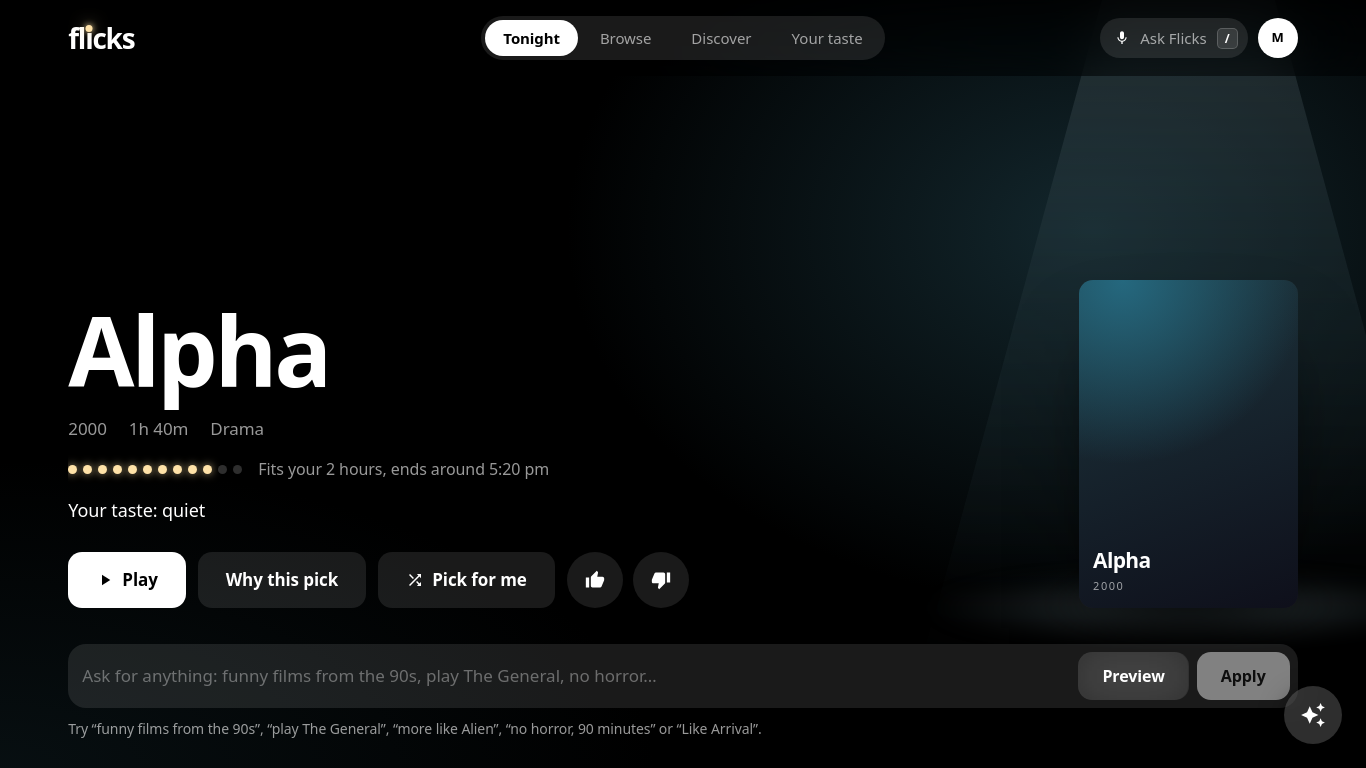
a single profile goes straight to the picks, and its menu exports and clears data
Click the button named "Profile: Me" at x=1278, y=38, box [1258, 18, 1298, 58]
(page scrolled)
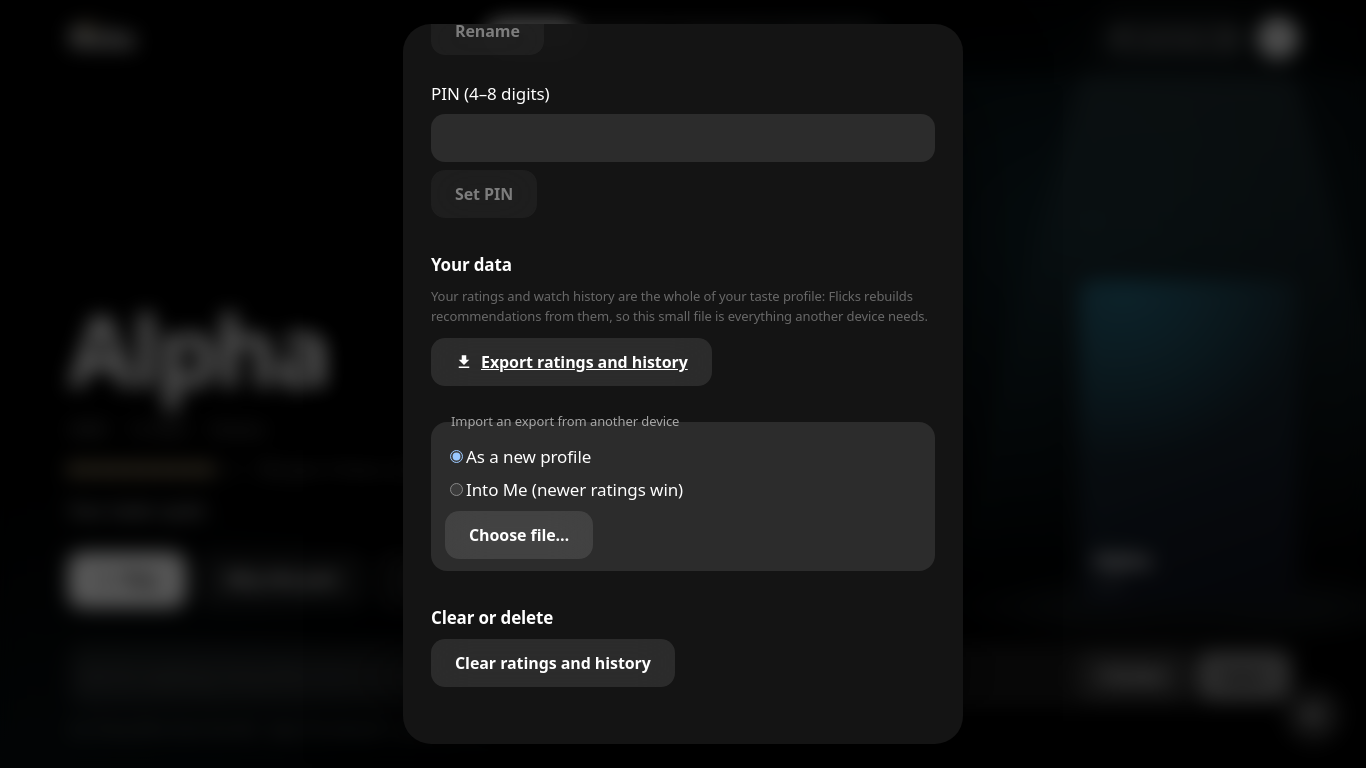
Click the button "Clear ratings and history" at x=553, y=663, box [431, 639, 675, 687]
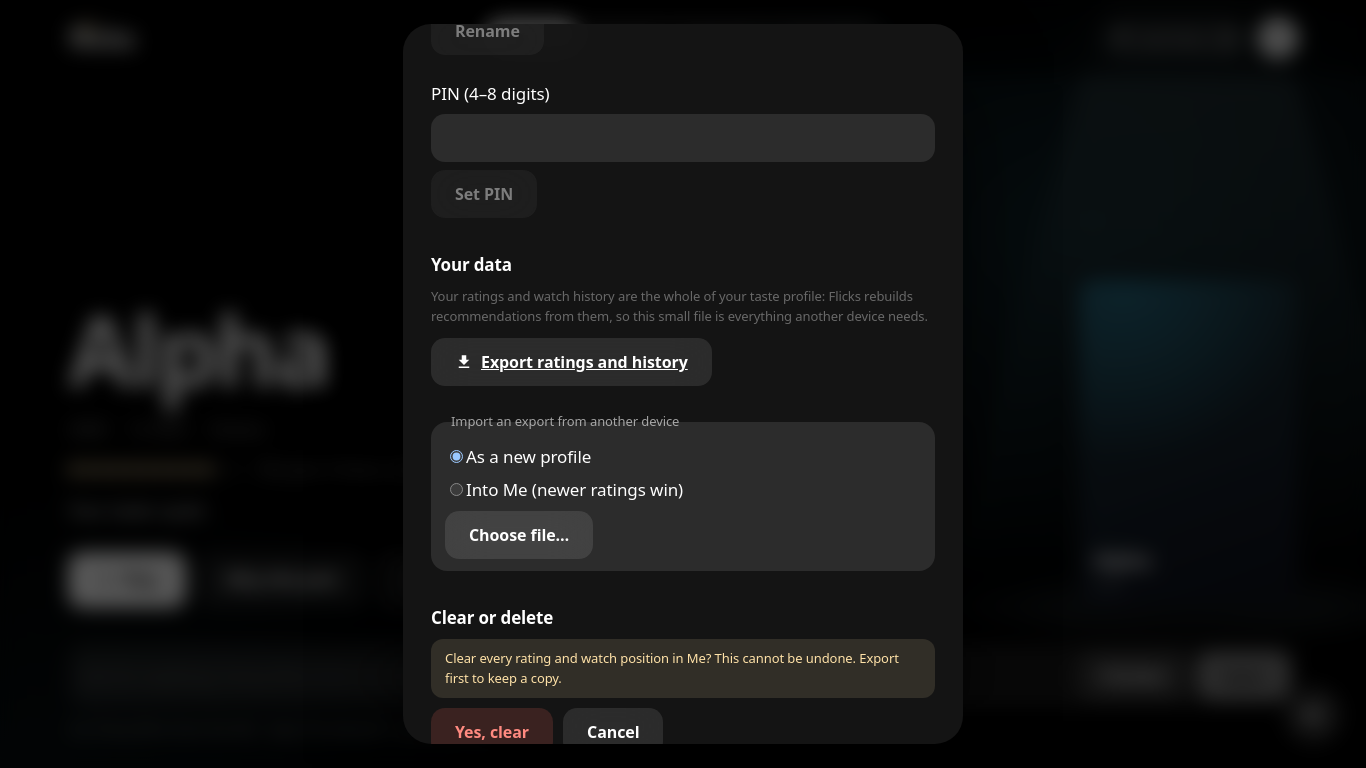
Click the button "Yes, clear" at x=492, y=732, box [431, 708, 553, 756]
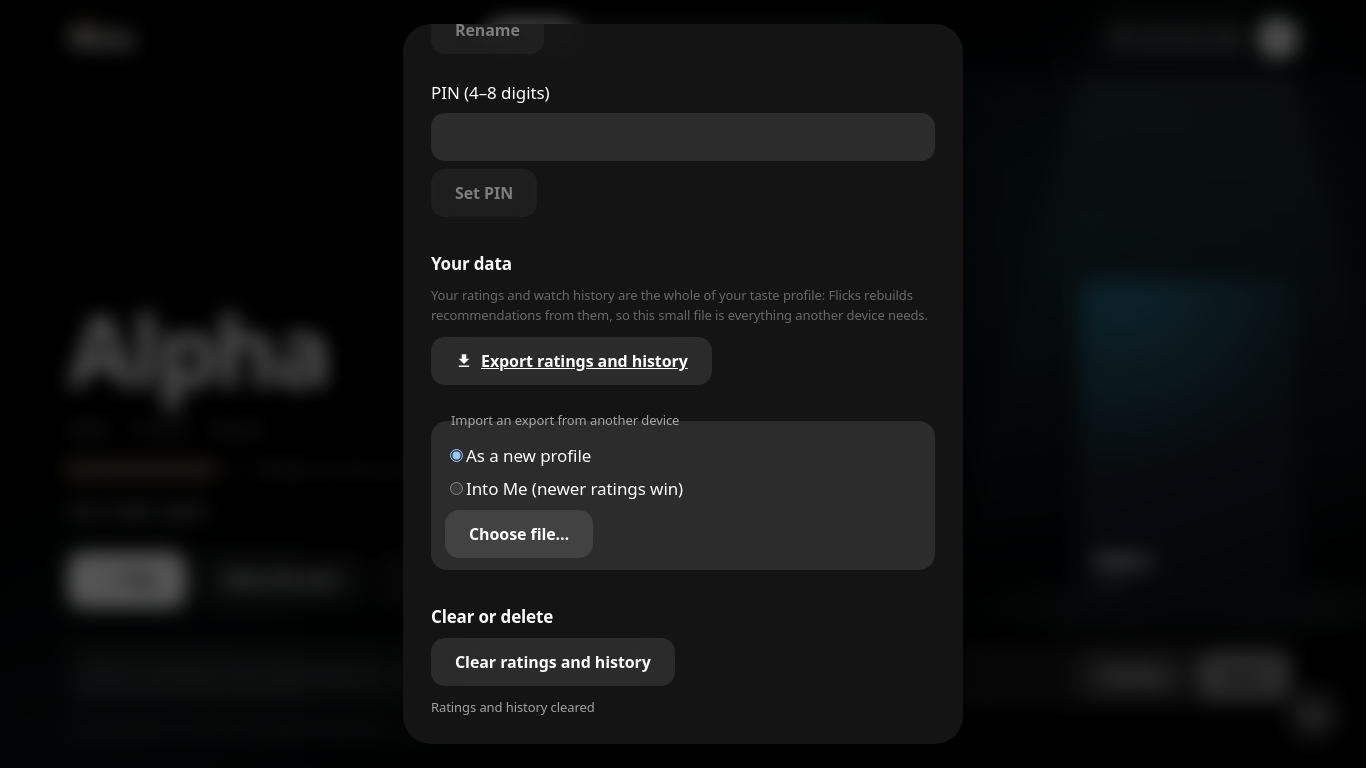
Expected: the text "Ratings and history cleared" is shown, [431, 698, 595, 716]
